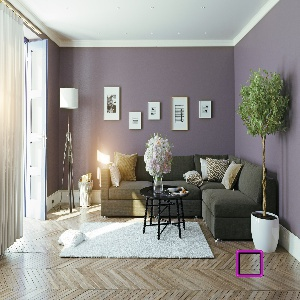square: (234, 247, 266, 280)
